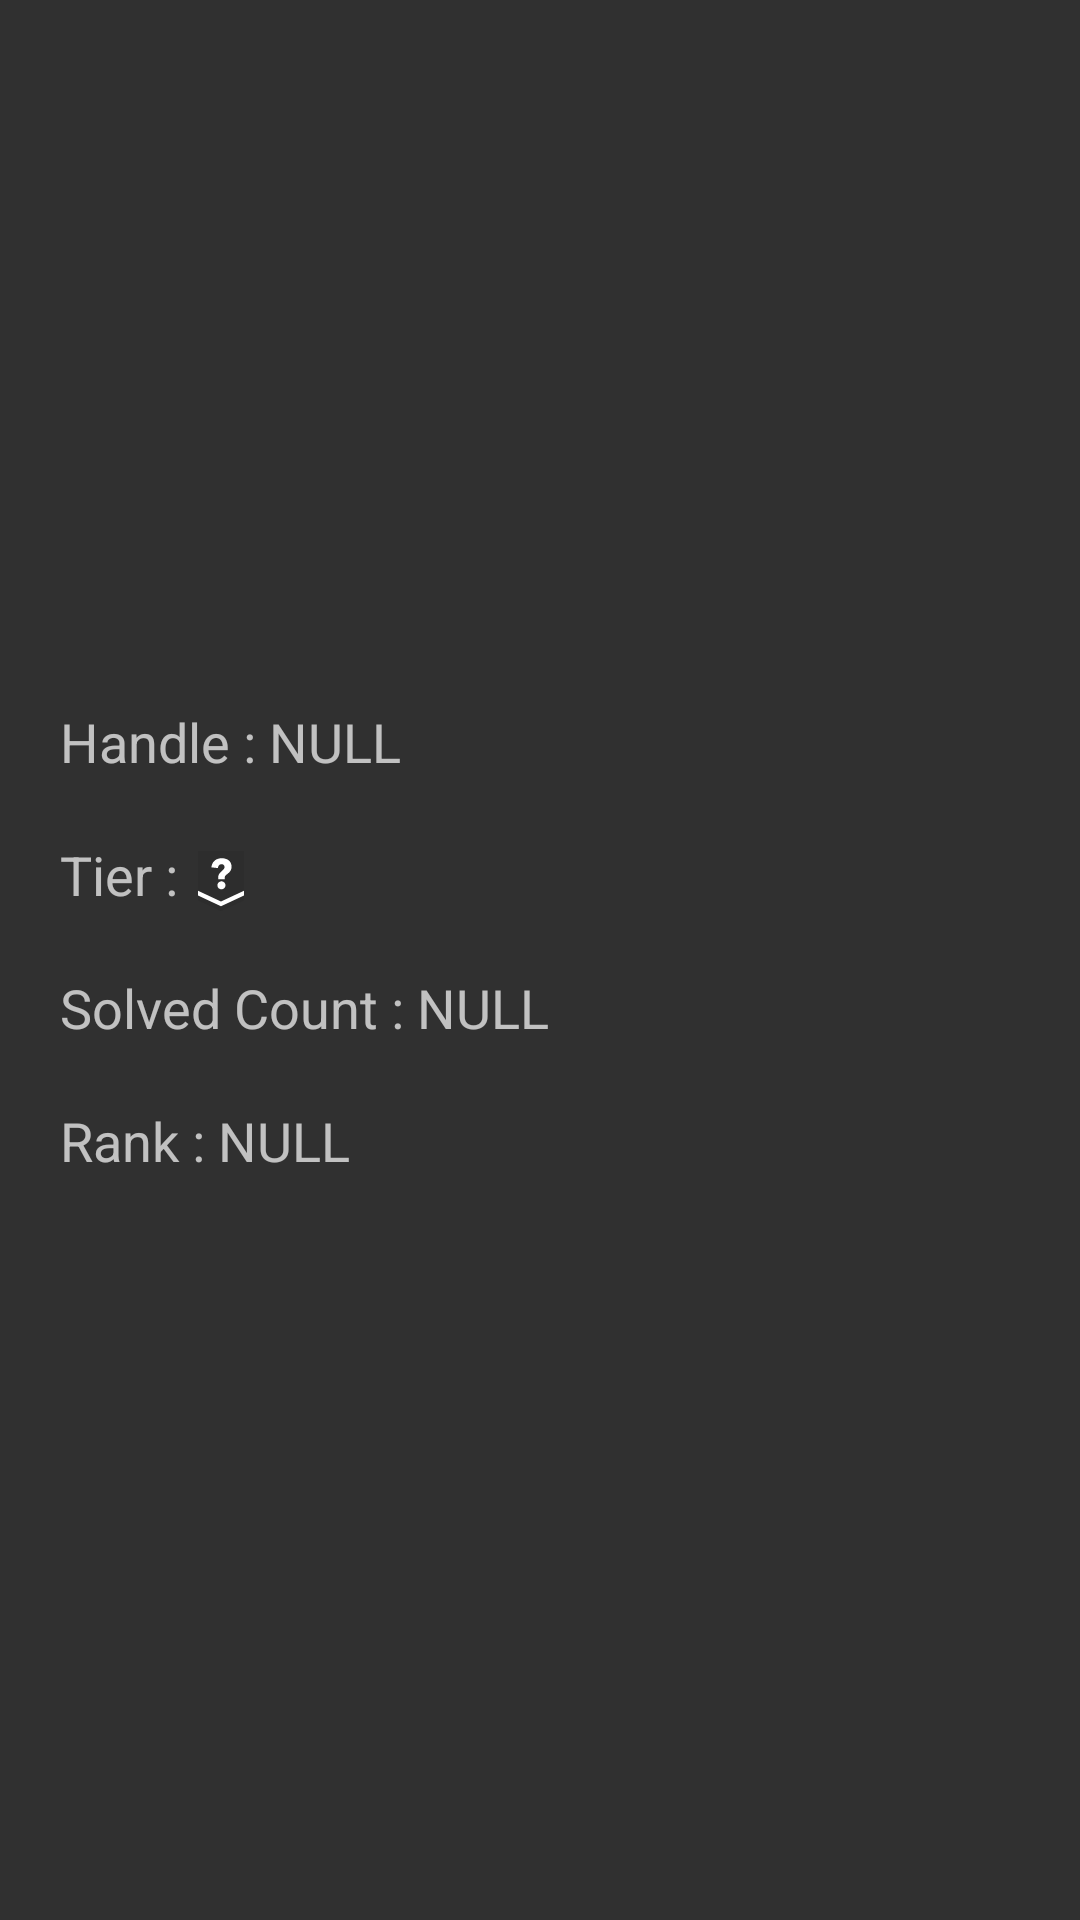

Named icons in this screenshot (1080 x 1920) and their centers, (x=x, y=y):
level: (x=221, y=882)
